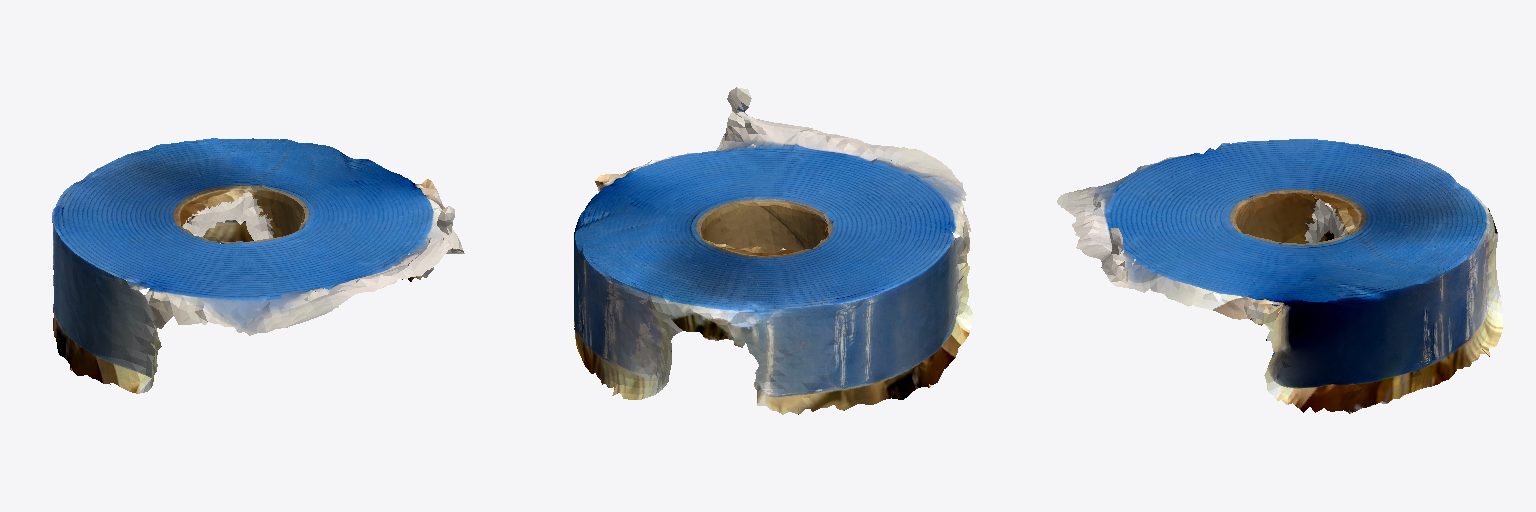
The picture shows the model from 3 angles: view 1: azimuth 30°, elevation 25°; view 2: azimuth 150°, elevation 25°; view 3: azimuth 270°, elevation 25°; orthographic projection.
Visible parts, largest first — view 1: Modra_Paska_Lowpoly_model.030; view 2: Modra_Paska_Lowpoly_model.030; view 3: Modra_Paska_Lowpoly_model.030.
Boxes of the visible parts, x1=… form: Modra_Paska_Lowpoly_model.030: x1=52, y1=138, x2=464, y2=393; Modra_Paska_Lowpoly_model.030: x1=574, y1=87, x2=973, y2=414; Modra_Paska_Lowpoly_model.030: x1=1057, y1=139, x2=1502, y2=413.
Size of the model in its own units: 5.58 by 2.51 by 6.18.
Materials: 1 (1 with a texture image).